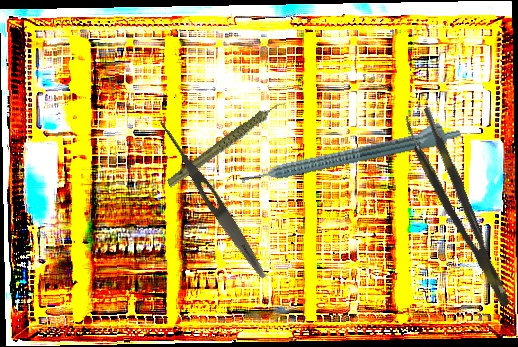Dressing Forceps: (152, 116, 271, 282)
Handpiece: (237, 115, 463, 189), (155, 99, 299, 190)
Tissue Forceps: (400, 106, 514, 315)
